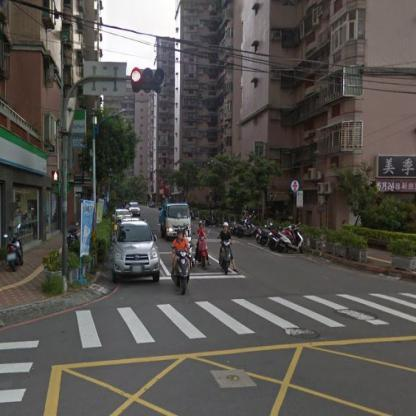Red Light: (130, 66, 165, 88)
